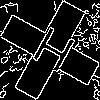H: (25, 25, 79, 82)
